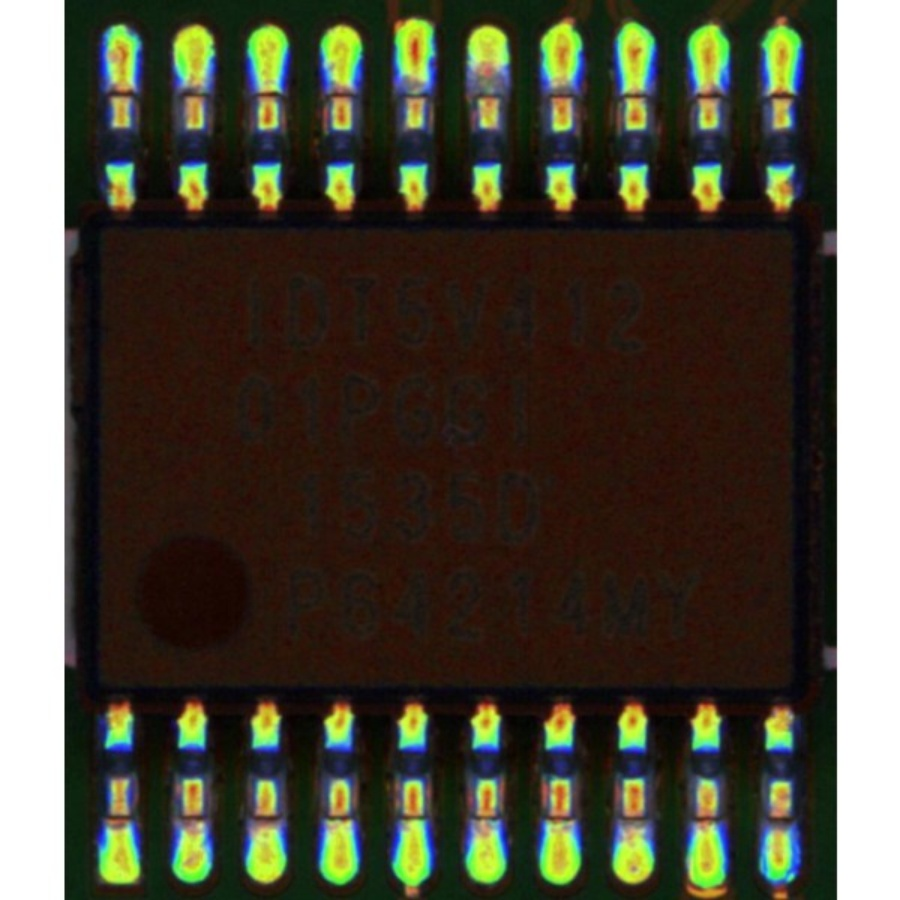Bad_podu: (110, 68, 132, 108), (328, 76, 351, 112), (185, 64, 203, 109), (553, 67, 571, 111), (772, 801, 788, 847), (623, 75, 644, 110), (255, 805, 276, 840), (259, 79, 277, 112), (184, 804, 202, 836), (770, 80, 792, 105), (697, 810, 718, 835), (700, 81, 719, 108), (109, 806, 127, 833), (477, 808, 496, 833)
